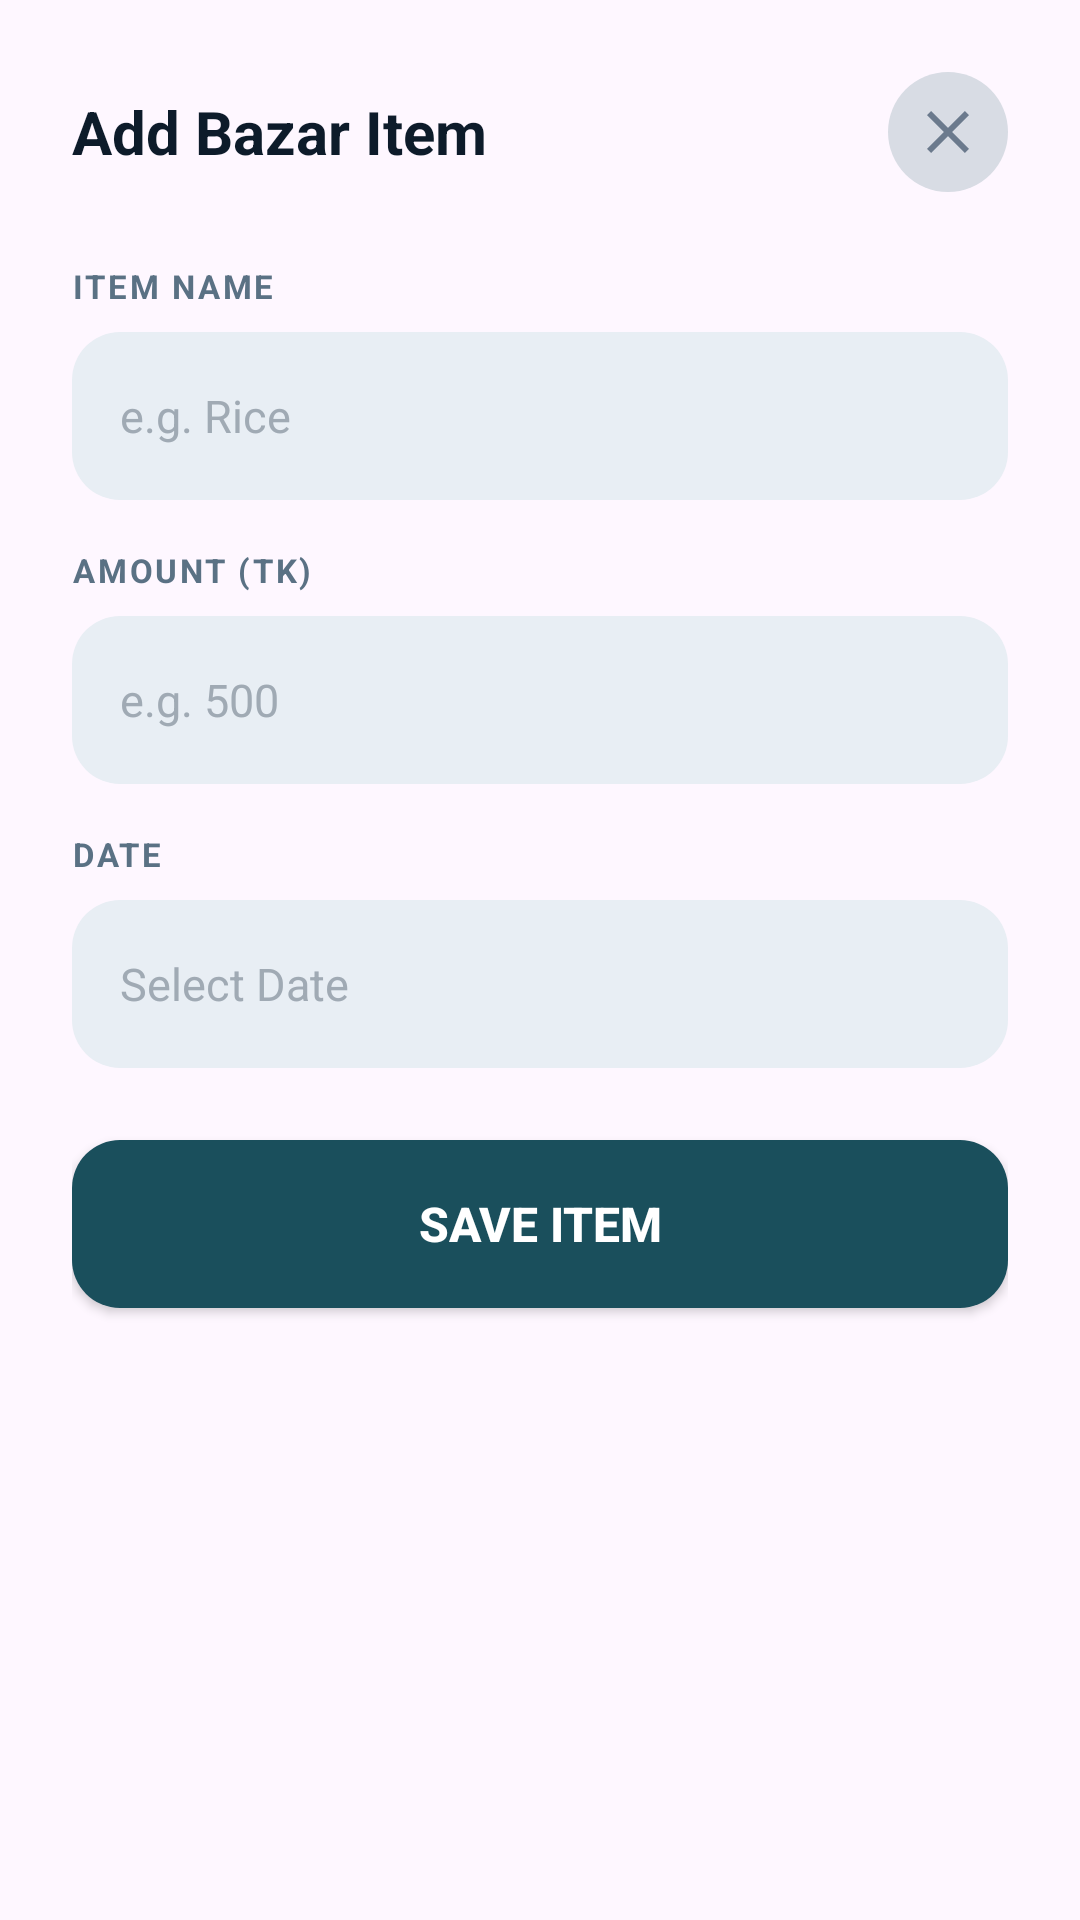

Screen size 1080 x 1920. Icon name, then its box in pixels as rect(x1, y1, x2, y2):
Close: rect(888, 72, 1008, 192)
